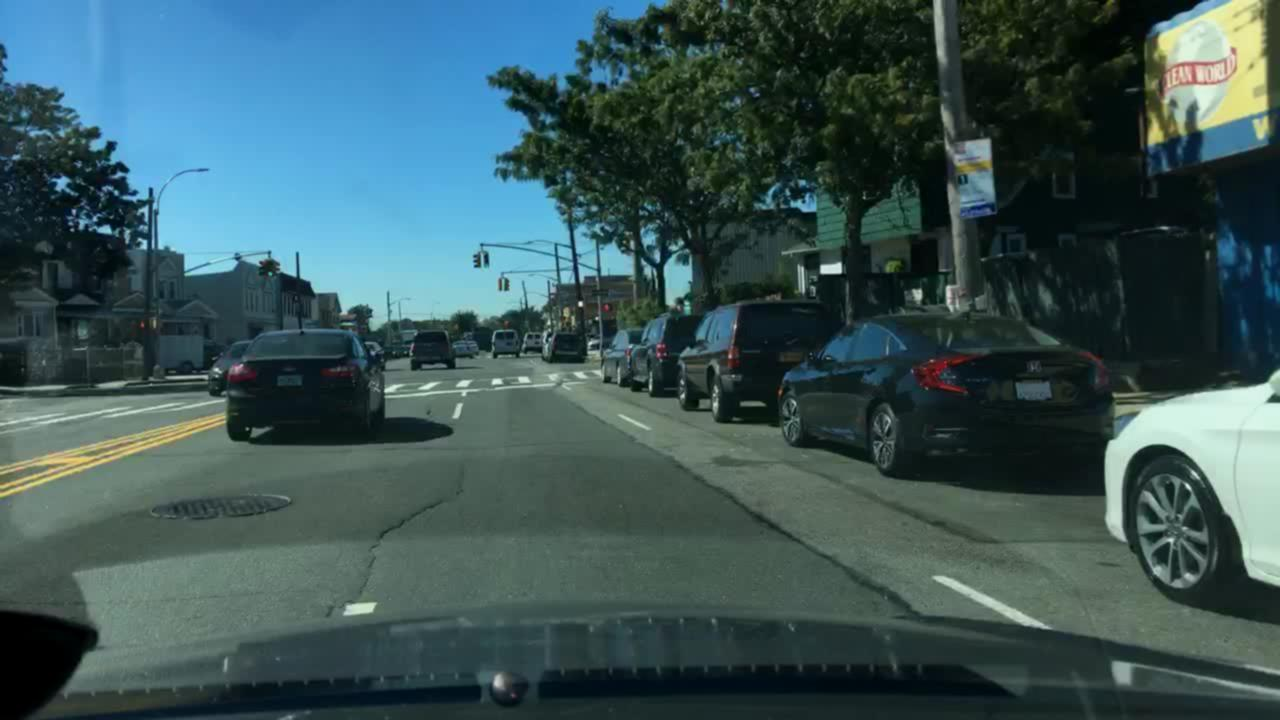Honda: (1019, 354, 1049, 380)
